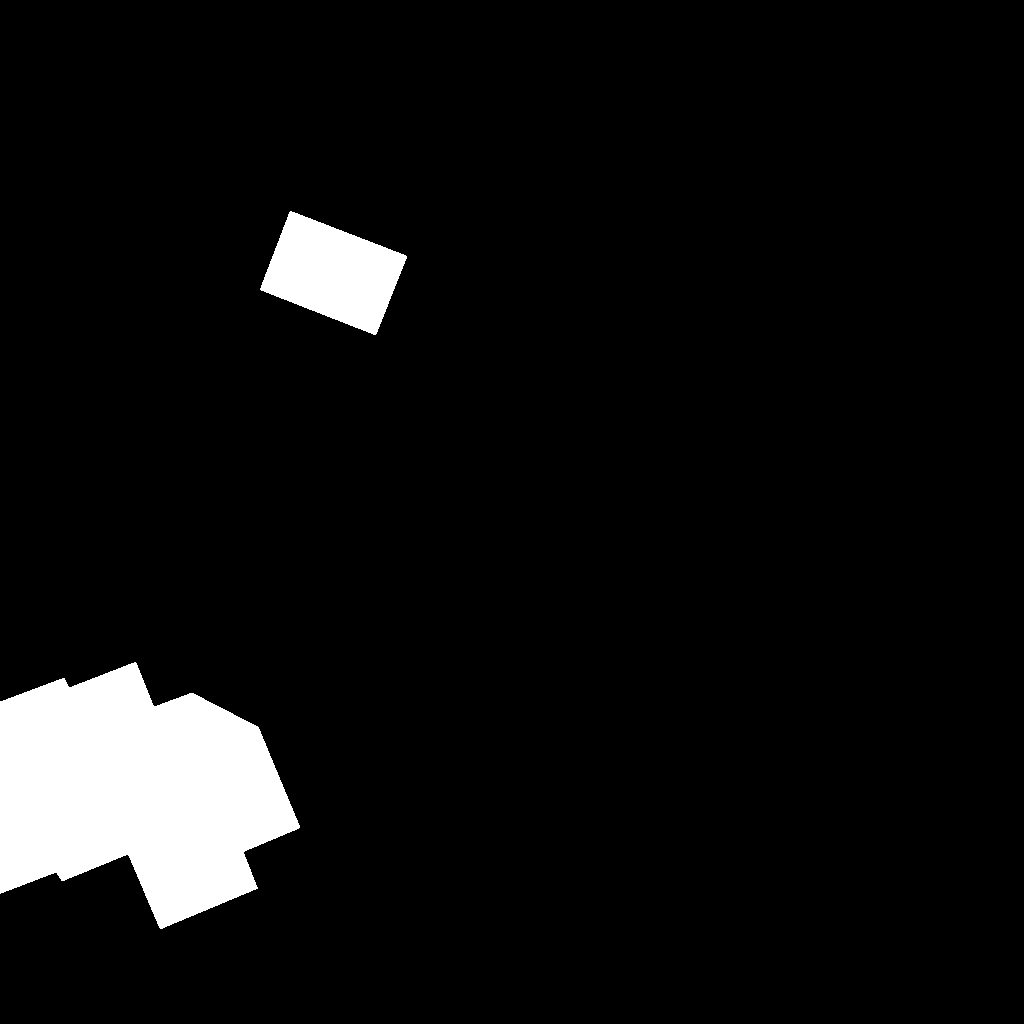building: (0, 662, 301, 930), (260, 211, 408, 336)
